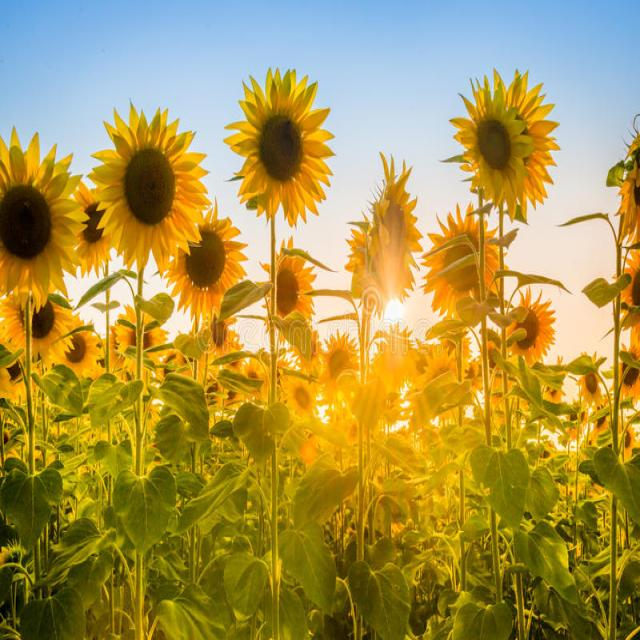sunflower: (85, 97, 208, 273), (225, 62, 332, 212), (0, 134, 88, 304), (413, 204, 507, 332), (448, 75, 527, 217), (360, 163, 430, 300), (170, 197, 251, 314), (259, 241, 320, 329), (500, 288, 560, 368), (57, 316, 104, 379)
